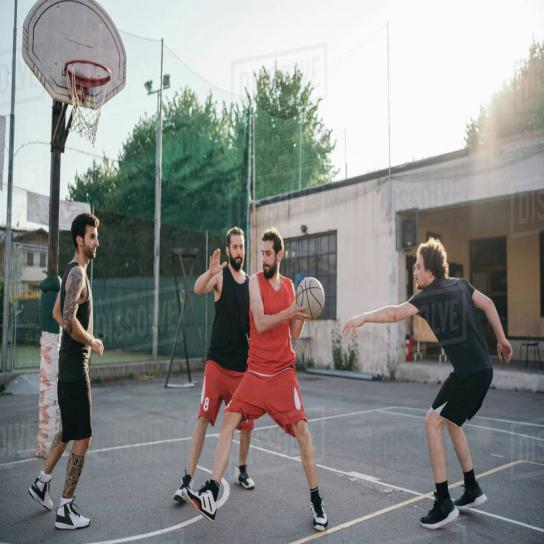basketball-hoop: (64, 58, 112, 148)
